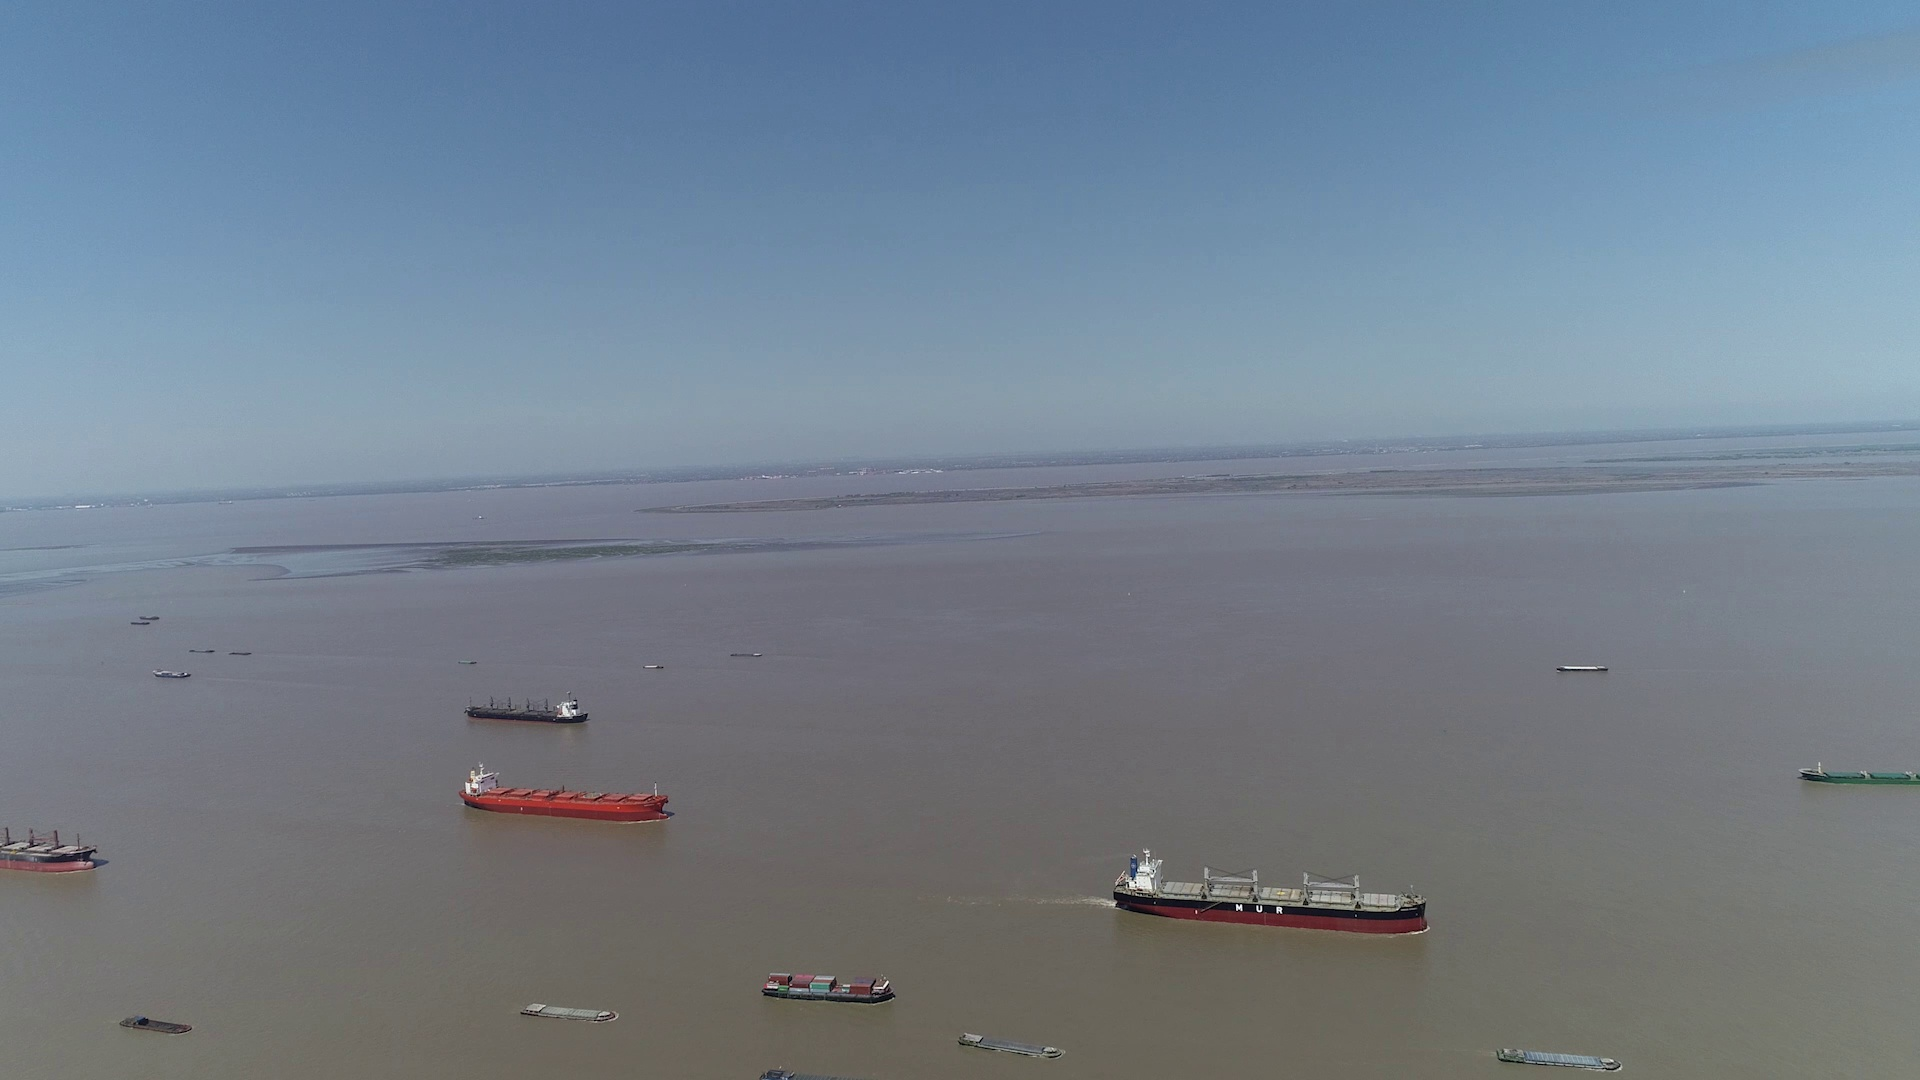ship: (1109, 849, 1427, 936), (459, 758, 669, 820), (1, 810, 105, 876), (761, 972, 895, 1005), (465, 694, 589, 723), (1494, 1046, 1622, 1073), (1796, 762, 1917, 787), (960, 1034, 1062, 1059), (522, 1002, 618, 1022), (123, 1015, 194, 1033), (760, 1068, 835, 1079), (1557, 665, 1609, 673), (154, 669, 191, 678)
